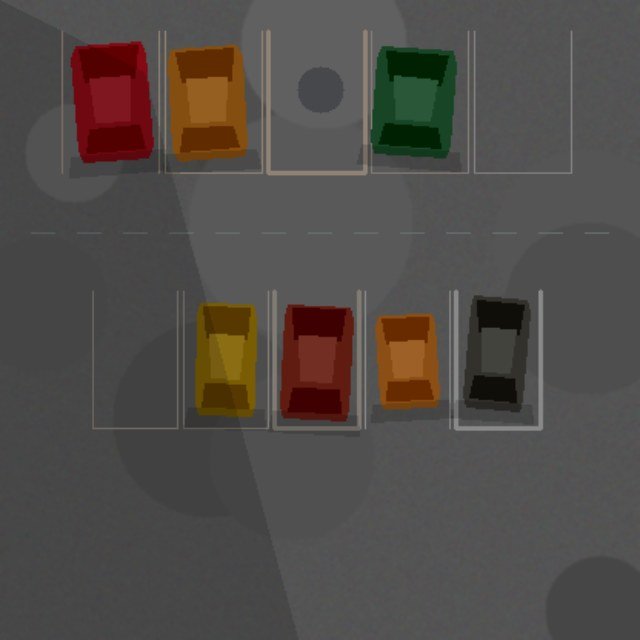space-empty: (268, 31, 365, 172), (474, 31, 571, 172), (92, 291, 177, 428)
space-occupied: (165, 31, 262, 172), (371, 31, 468, 172), (62, 31, 158, 172), (183, 291, 268, 428), (455, 291, 540, 428), (274, 291, 358, 428), (365, 291, 449, 428)
